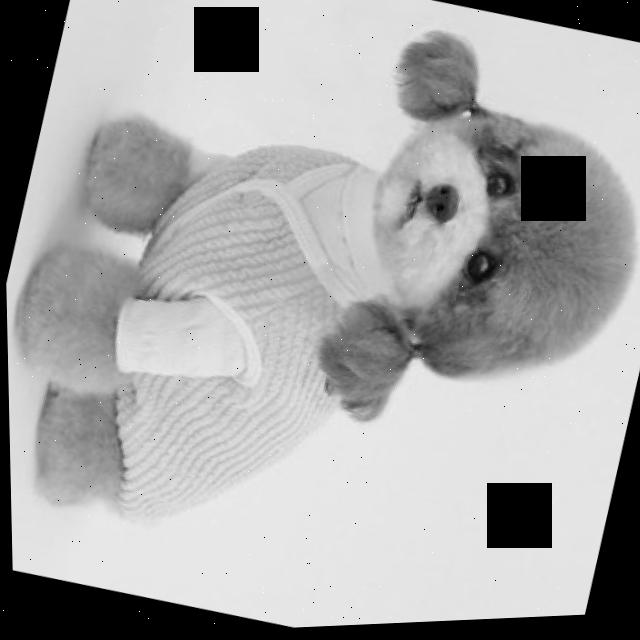cloth: (114, 148, 383, 517)
